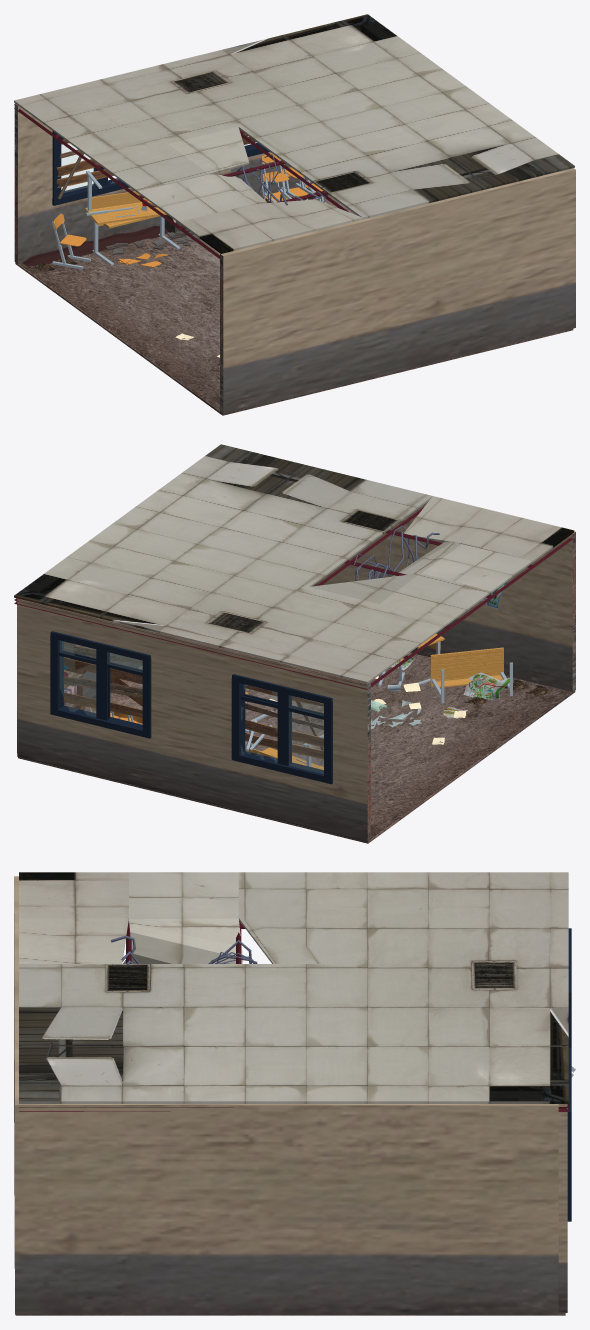
Rendered from day_3._abandoned_school_room.glb.
3 views of the same model, one above another, from view 1: azimuth 30°, elevation 25°; view 2: azimuth 150°, elevation 25°; view 3: azimuth 270°, elevation 25° (orthographic). The views are drawn at different scales.
Visible parts, largest first — view 1: Plane.079, Plane, Plane.012, Plane.015, Plane.028, Plane.078, Plane.017, Cube, Plane.045, Plane.030, Plane.044, Plane.019; view 2: Plane.079, Plane.015, Plane.012, Plane, Cube, Cube.001, Plane.078, Plane.043, Plane.021, Plane.027, Plane.030, Plane.065 (+5 smaller); view 3: Plane.079, Plane, Plane.015, Cube.001, Plane.078, Plane.012.
Boxes of the visible parts, x1,y1,x2,y2 form: Plane.079: [14, 14, 574, 253]; Plane: [220, 168, 575, 414]; Plane.012: [15, 195, 573, 415]; Plane.015: [14, 103, 312, 263]; Plane.028: [85, 171, 166, 224]; Plane.078: [14, 104, 348, 259]; Plane.017: [22, 226, 168, 266]; Cube: [52, 131, 129, 205]; Plane.045: [52, 213, 90, 269]; Plane.030: [56, 139, 113, 187]; Plane.044: [92, 215, 180, 265]; Plane.019: [105, 231, 199, 254]; Plane.079: [14, 444, 574, 683]; Plane.015: [17, 598, 370, 842]; Plane.012: [18, 652, 575, 843]; Plane: [17, 501, 575, 753]; Cube: [231, 674, 332, 784]; Cube.001: [50, 631, 151, 738]; Plane.078: [14, 507, 573, 689]; Plane.043: [430, 647, 512, 703]; Plane.021: [289, 695, 323, 773]; Plane.027: [60, 641, 95, 716]; Plane.030: [245, 684, 323, 759]; Plane.065: [463, 672, 509, 700]; Plane.079: [19, 872, 568, 1103]; Plane: [14, 876, 558, 1315]; Plane.015: [558, 1104, 567, 1312]; Cube.001: [567, 1048, 571, 1221]; Plane.078: [19, 920, 568, 1111]; Plane.012: [15, 1313, 565, 1315].
Size of the model in its own units: 2353 by 1107 by 2436.
48 materials, 21 textured.
